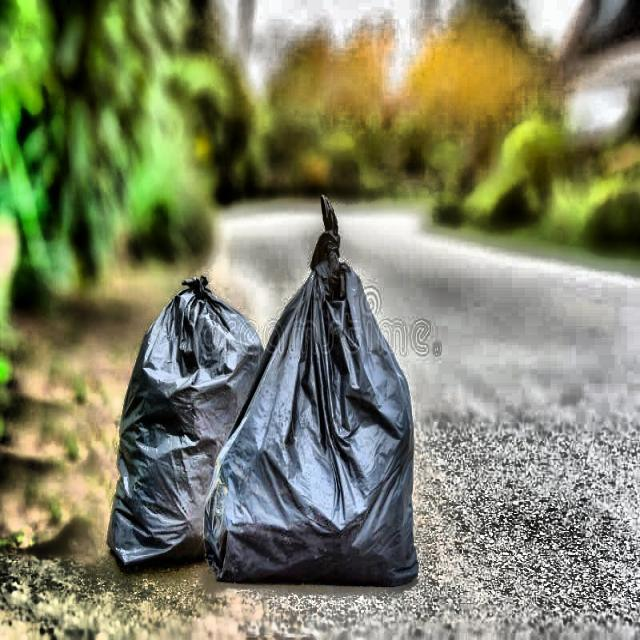Trashbag: (220, 248, 433, 590), (99, 269, 263, 574)
